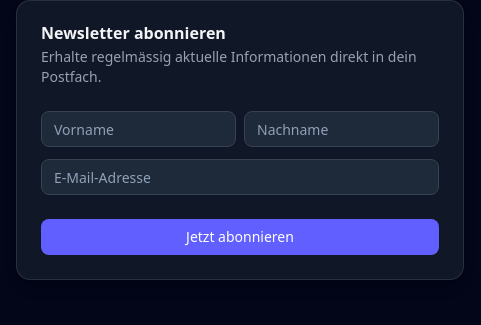
NewsletterForm Component Test › sollte bei einer Fehler-API-Antwort eine Fehlermeldung anzeigen
The image size is (481, 325).
Type "John" into the field with placeholder "Vorname". click: (138, 129)
box: top-left (41, 111), bottom-right (236, 147)
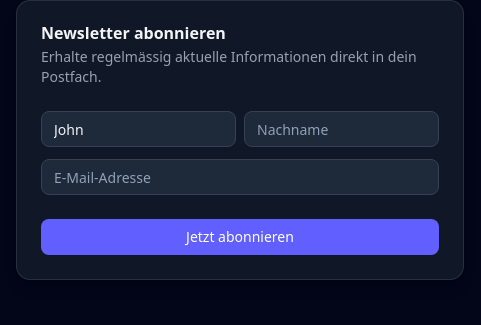
Type "Doe" into the field with placeholder "Nachname". click: (342, 129)
box: top-left (244, 111), bottom-right (439, 147)
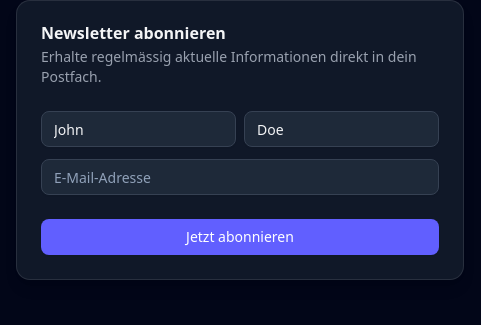
Type "john@doe.com" into the field with placeholder "E-Mail-Adresse". click: (240, 177)
box: top-left (41, 159), bottom-right (439, 195)
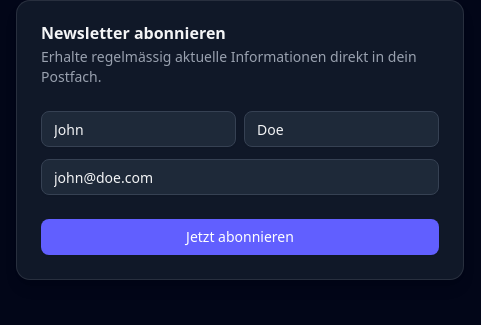
Click the button "Jetzt abonnieren". click: (240, 237)
box: top-left (41, 219), bottom-right (439, 255)
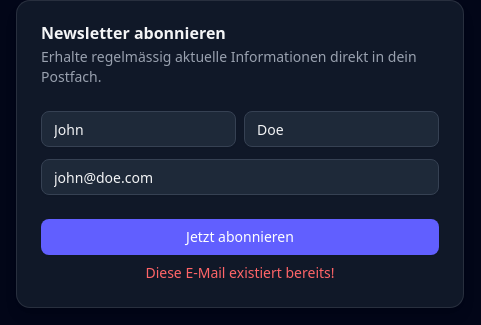
expect the text "Diese E-Mail existiert bereits!" is shown: met, box top-left (145, 263), bottom-right (334, 283)
expect the text with test id "status-message" reads "Diese E-Mail existiert bereits!": met, box top-left (145, 263), bottom-right (334, 282)
